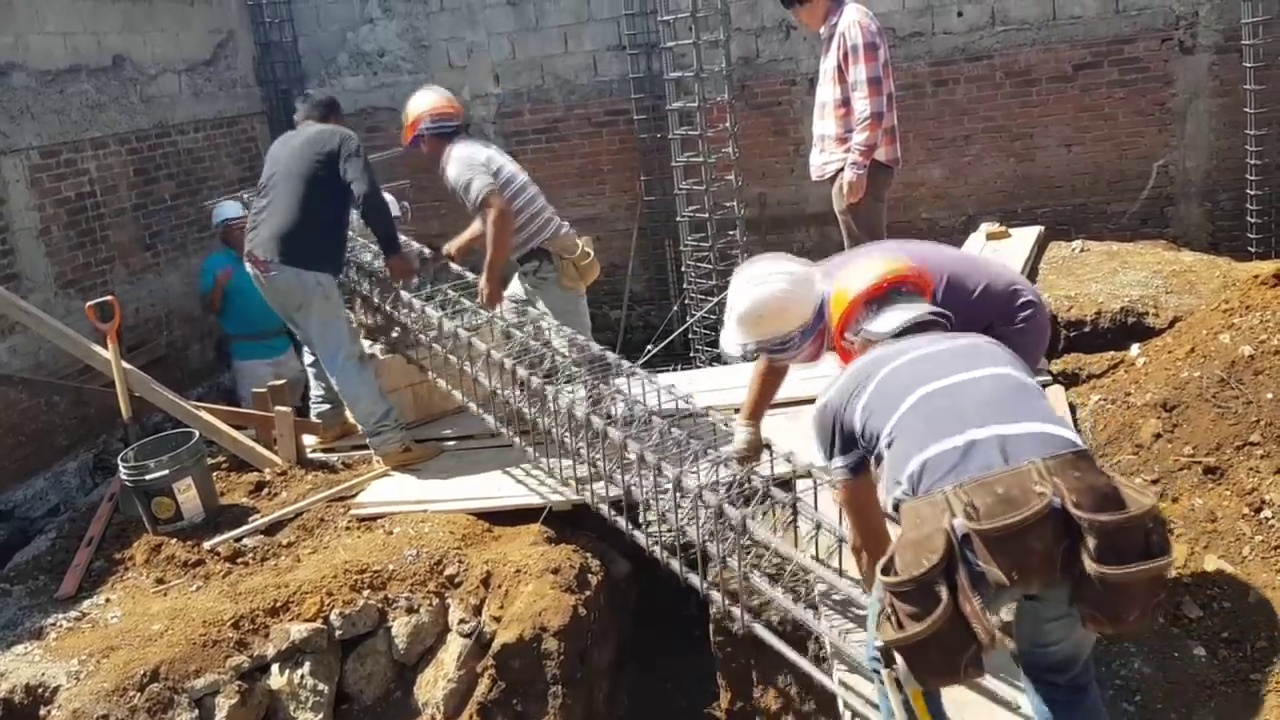helmet: (826, 251, 934, 364), (716, 254, 824, 361), (394, 82, 456, 142), (211, 199, 247, 231)
helmet-off: (776, 0, 849, 43), (292, 89, 337, 131)
helmet-on: (825, 251, 955, 370), (395, 81, 469, 159), (211, 199, 247, 258)
person: (812, 252, 1124, 720), (244, 86, 443, 470), (717, 254, 1053, 466), (394, 80, 596, 343), (773, 0, 900, 248), (193, 202, 305, 415)
